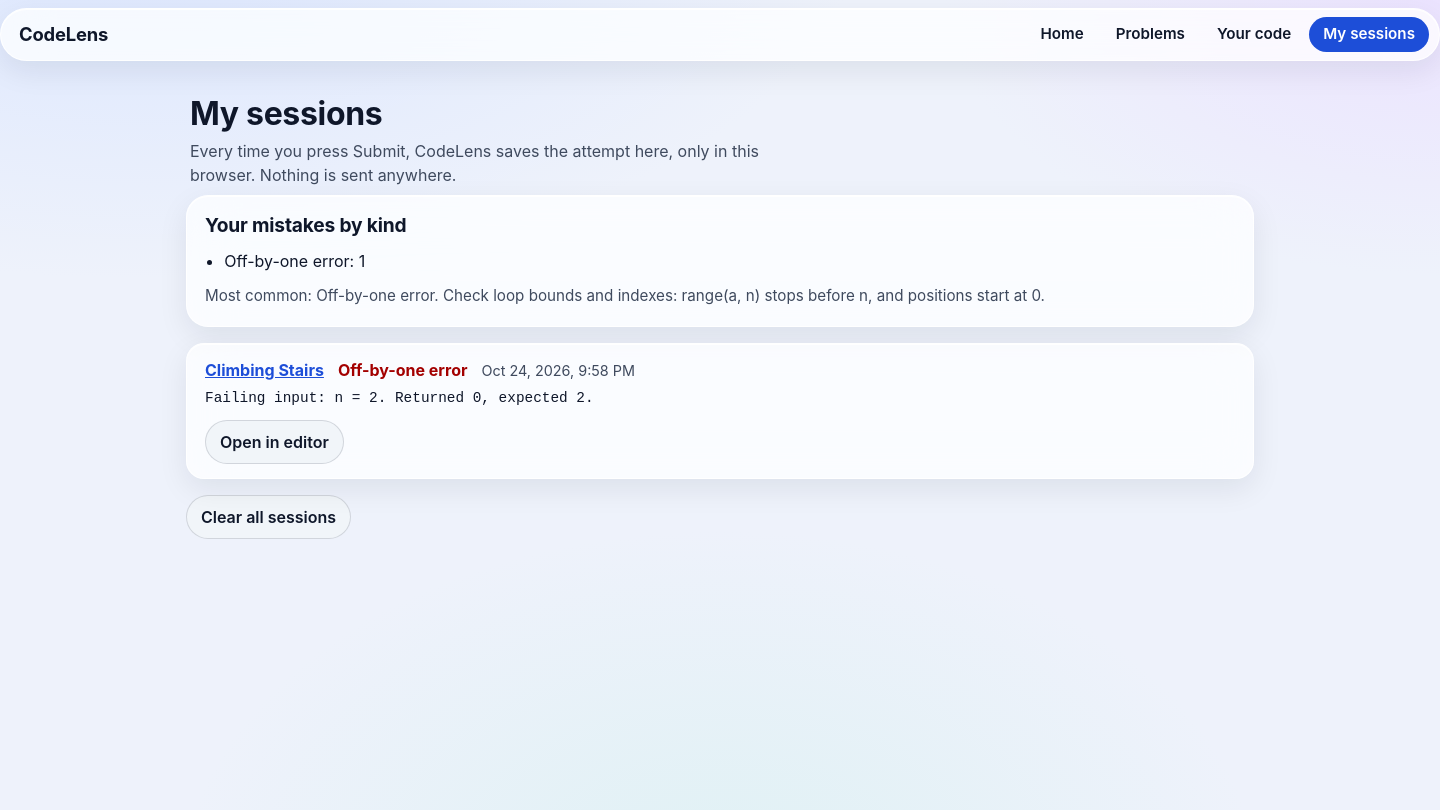
Test: My sessions page › clears everything after confirming
This screenshot has width=1440, height=810.
Click the button "Clear all sessions".
click(269, 517)  # box [186,495,351,539]
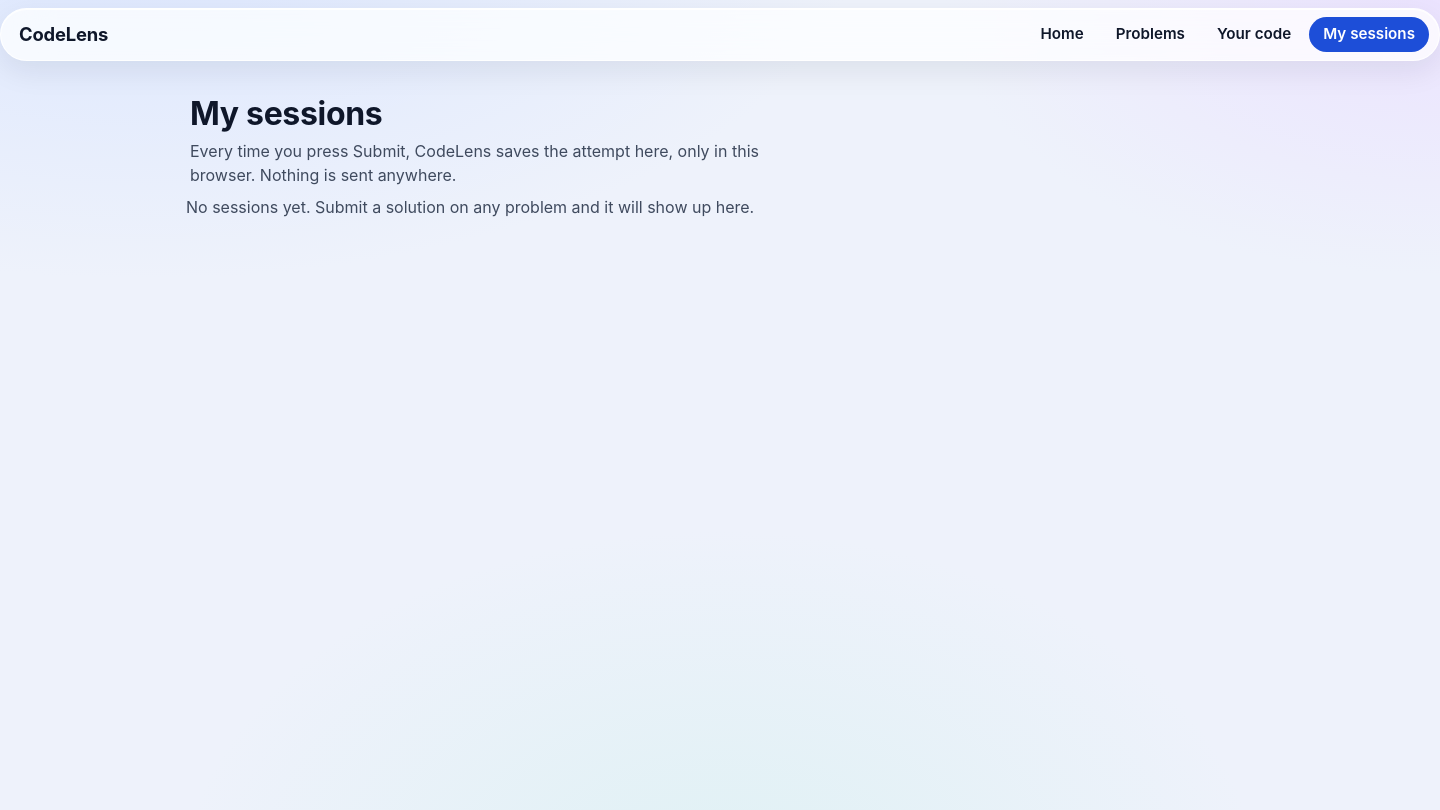
Result: the text "No sessions yet" is shown at [186,197,754,217]
